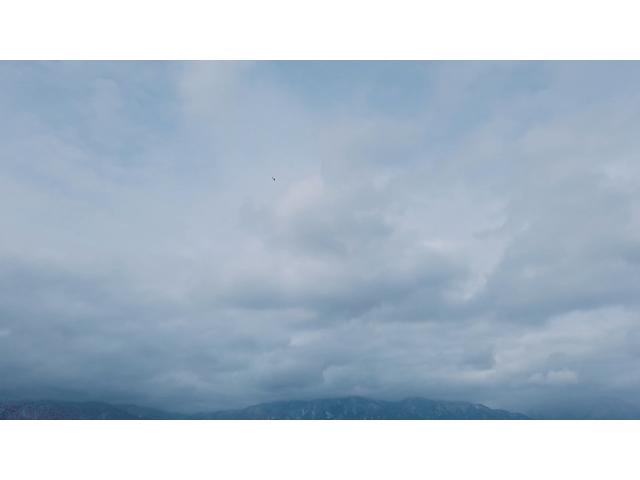Anti-Drone: (270, 175, 278, 187)
